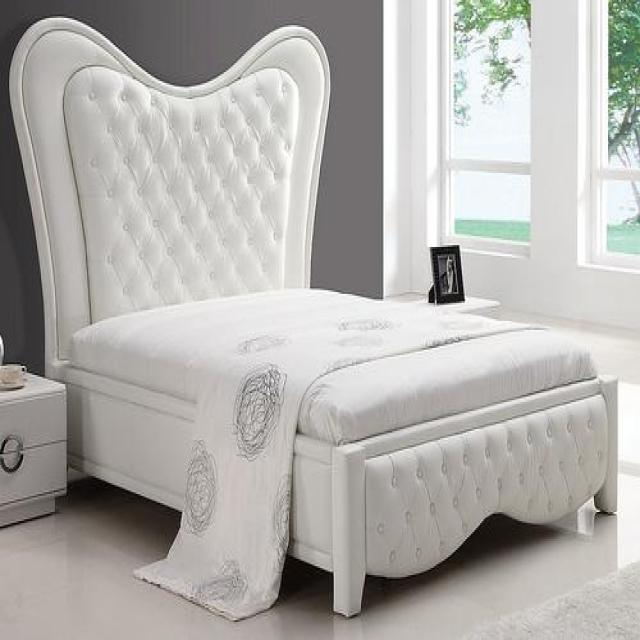bed: (38, 269, 620, 618)
